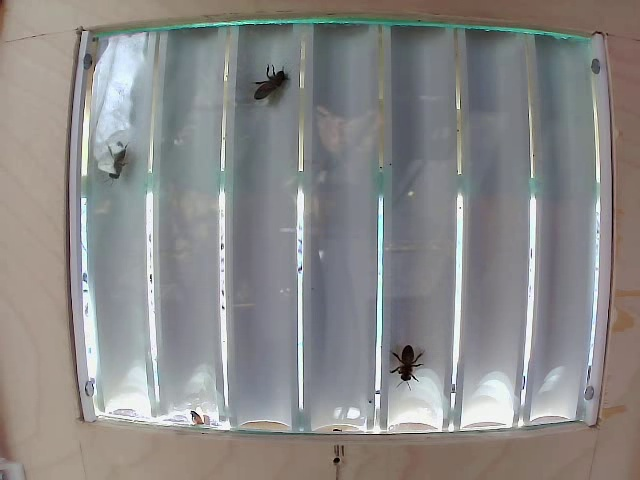bee: (253, 58, 318, 113), (388, 340, 431, 383)
